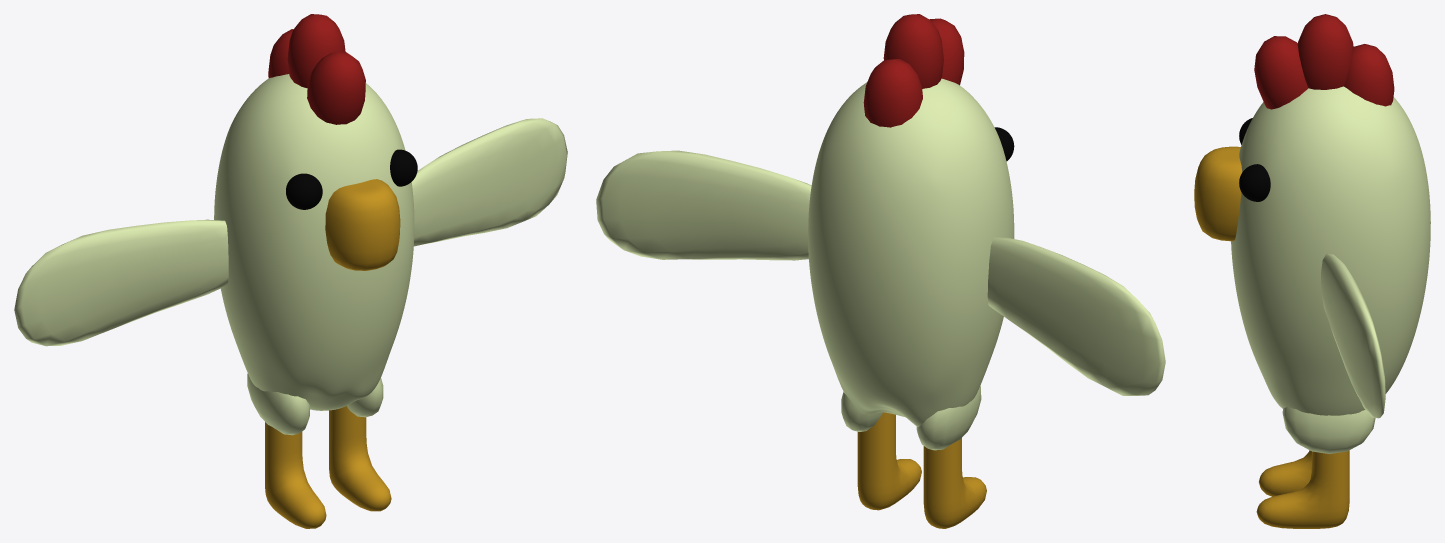
Rendered from chicken blender model attached.fbx.
The picture shows the model from 3 angles, left to right: view 1: azimuth 30°, elevation 25°; view 2: azimuth 150°, elevation 25°; view 3: azimuth 270°, elevation 25°; orthographic projection. The views are drawn at different scales.
Parts seen in each view (by area): view 1: chickenboy; view 2: chickenboy; view 3: chickenboy.
Boxes of the visible parts, left/top/right/bottom form: chickenboy: left=14, top=14, right=567, bottom=528; chickenboy: left=596, top=14, right=1165, bottom=528; chickenboy: left=1194, top=14, right=1430, bottom=528.
Bounding box in the file's own units: 454 × 383 × 165.
